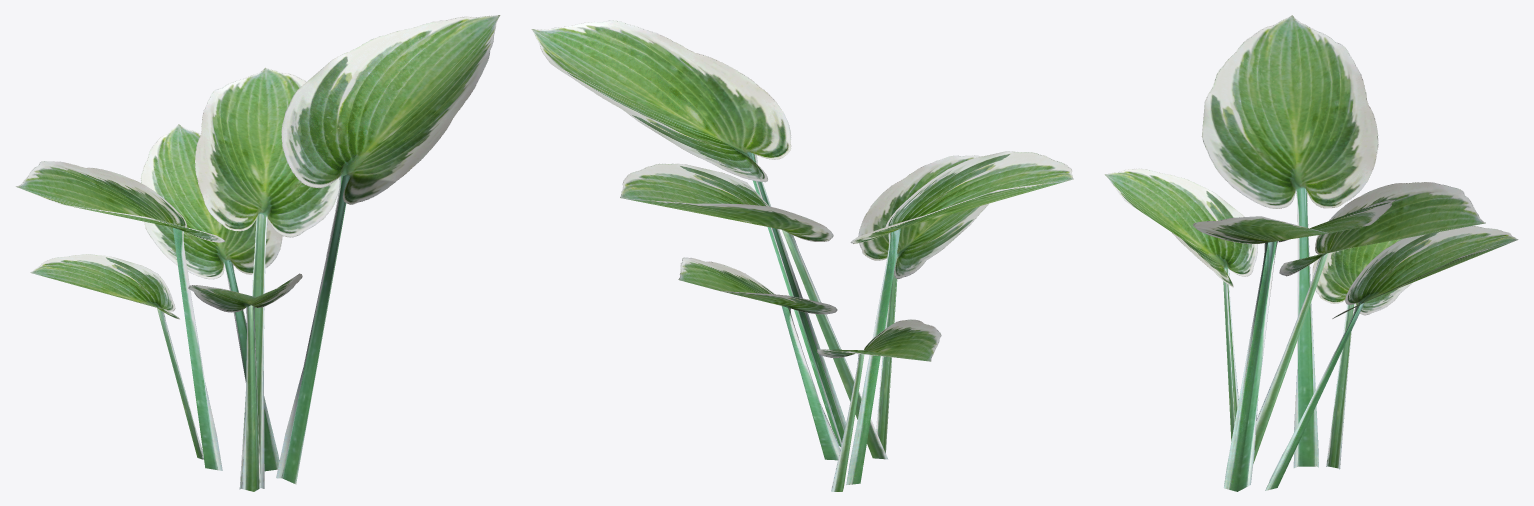
File: plant_small_wg_05X.fbx
3 views of the same model, side by side, from view 1: azimuth 30°, elevation 25°; view 2: azimuth 150°, elevation 25°; view 3: azimuth 270°, elevation 25° (orthographic). The views are drawn at different scales.
Visible parts, largest first — view 1: plant_small_wg_05X; view 2: plant_small_wg_05X; view 3: plant_small_wg_05X.
Part boxes in pixels (x1=…): plant_small_wg_05X: x1=16, y1=15, x2=500, y2=491; plant_small_wg_05X: x1=531, y1=20, x2=1073, y2=491; plant_small_wg_05X: x1=1104, y1=15, x2=1518, y2=491.
Size of the model in its own units: 60.14 by 42.21 by 41.29.
